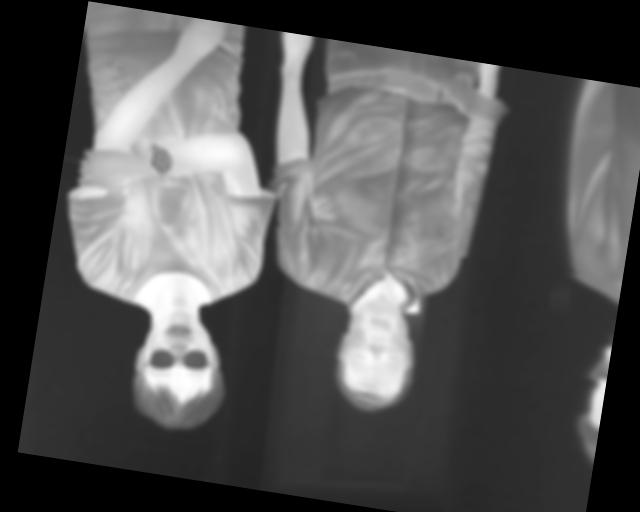face: (125, 302, 234, 438), (328, 294, 424, 419)
